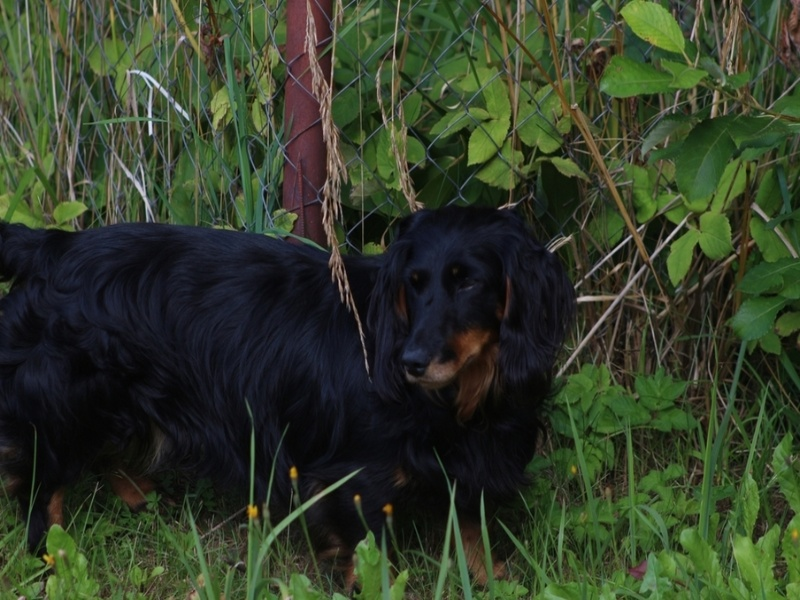dog: (1, 208, 579, 558)
